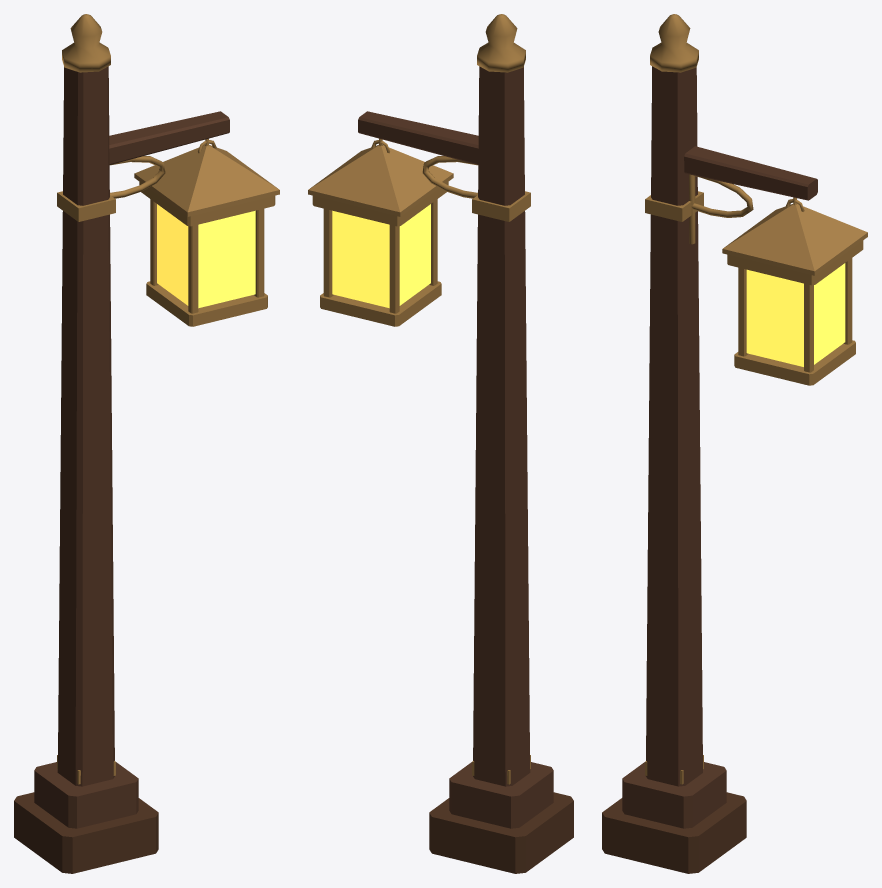
The model's file is prop_lamp_post_a.glb.
3 views of the same model, side by side, from view 1: azimuth 30°, elevation 25°; view 2: azimuth 150°, elevation 25°; view 3: azimuth 330°, elevation 25° (orthographic).
Parts seen in each view (by area): view 1: prop_lamp_post_a_mesh; view 2: prop_lamp_post_a_mesh; view 3: prop_lamp_post_a_mesh.
Part boxes in pixels (x1,y1,x2,y2): prop_lamp_post_a_mesh: (14,14,279,873); prop_lamp_post_a_mesh: (308,14,573,873); prop_lamp_post_a_mesh: (602,14,867,873).
Bounding box in the file's own units: 0.9802 × 3.61 × 0.4398.
